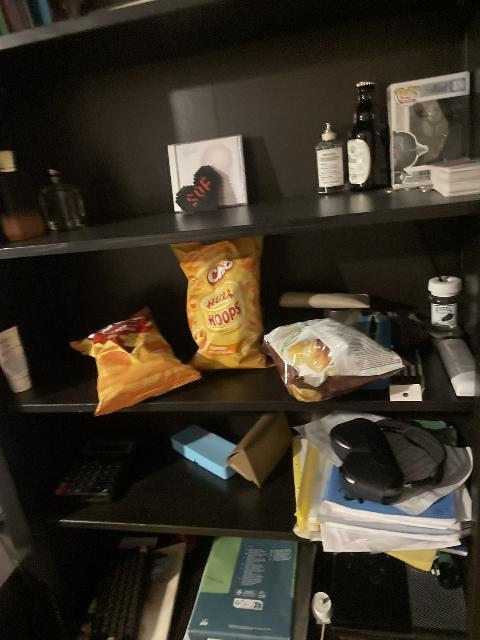Chio Cascaval 125g: (68, 309, 201, 415)
Chio Hula Hoops Cheese 70g: (170, 240, 270, 361)
Lays Beef Grilled Ribs 125g: (264, 313, 409, 403)
